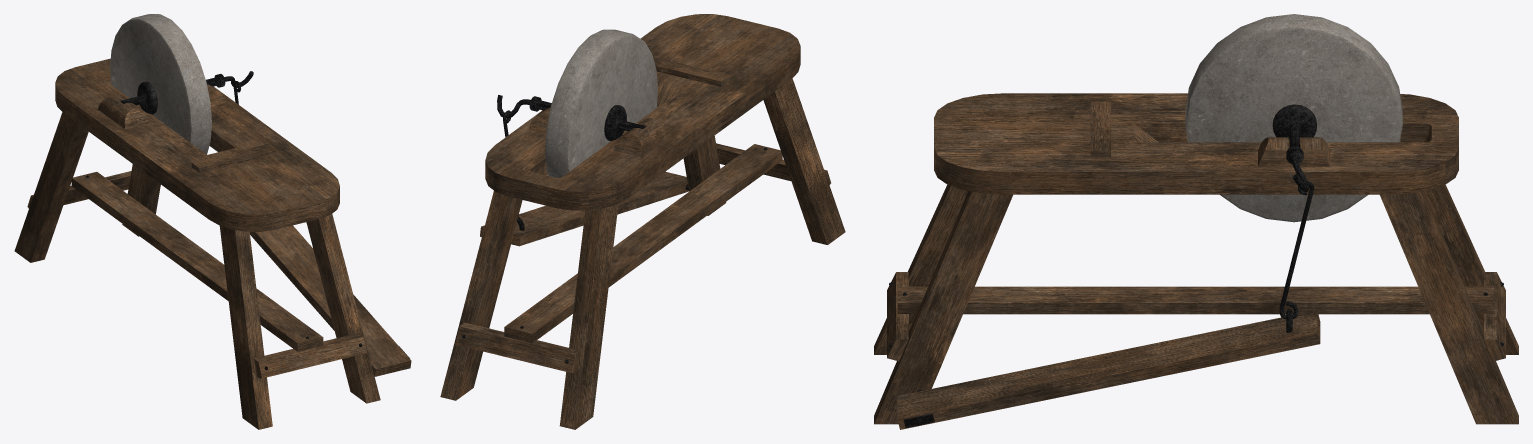
File: grindstone.glb
3 renders of one model, left to right at view 1: azimuth 30°, elevation 25°; view 2: azimuth 150°, elevation 25°; view 3: azimuth 270°, elevation 25°, orthographic. The views are drawn at different scales.
Visible parts, largest first — view 1: grindstone.001; view 2: grindstone.001; view 3: grindstone.001.
Boxes of the visible parts, x1=… form: grindstone.001: x1=14, y1=14, x2=411, y2=429; grindstone.001: x1=440, y1=14, x2=845, y2=429; grindstone.001: x1=874, y1=14, x2=1518, y2=429.
Bounding box in the file's own units: 0.3896 × 0.6263 × 1.
1 material, 1 textured.
